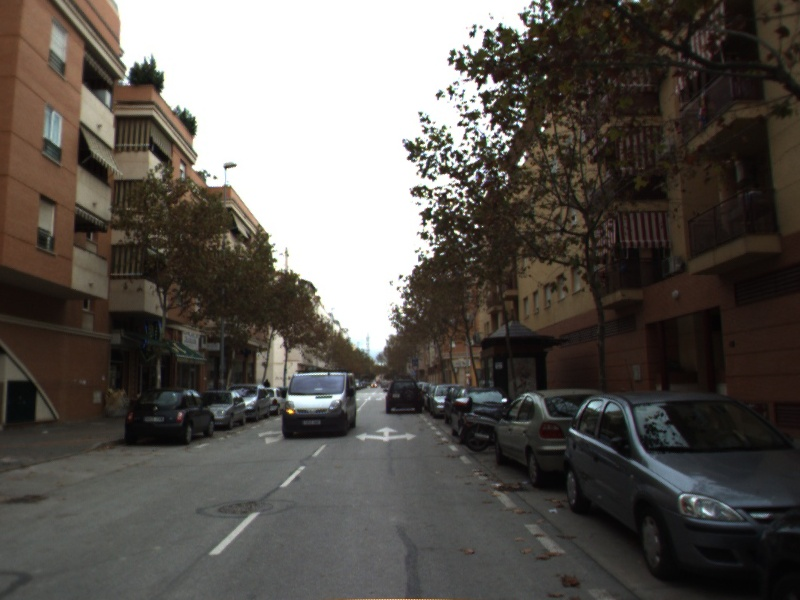STRAIGHT_LEFT_RIGHT: (353, 425, 419, 443)
